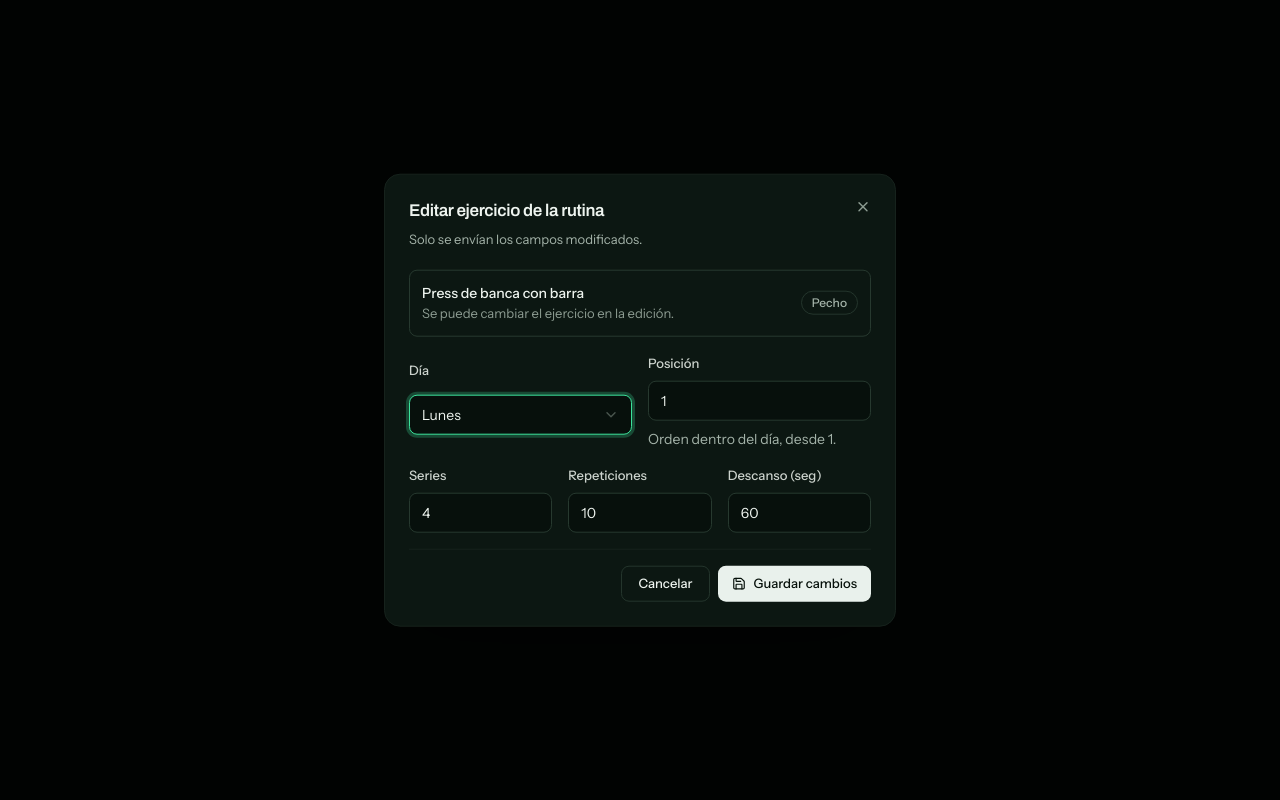
Test: RoutineExerciseFormDialog › no envía nada si no hay cambios
The image size is (1280, 800).
Step 1. Click the button "Guardar cambios" → x=794, y=583, box [718,565,871,601]
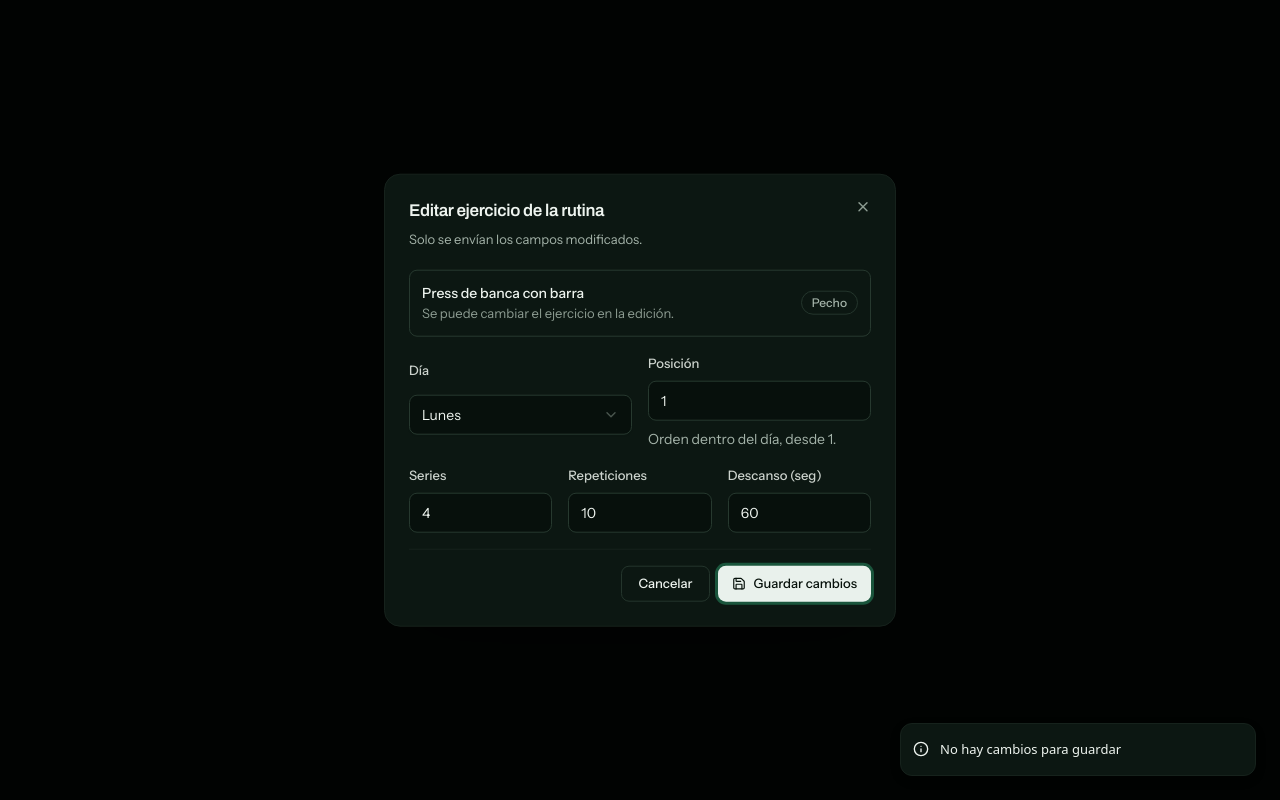
Expected: the text "No hay cambios para guardar" is shown, [940,740,1121,759]
